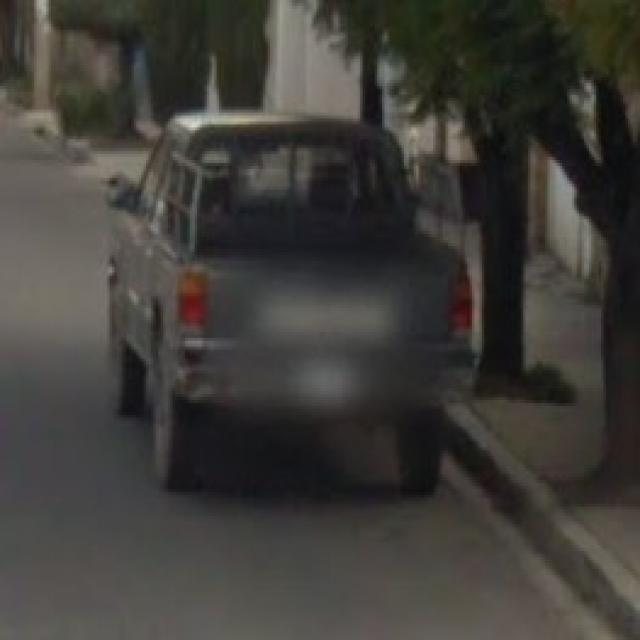Car: (114, 97, 479, 496)
